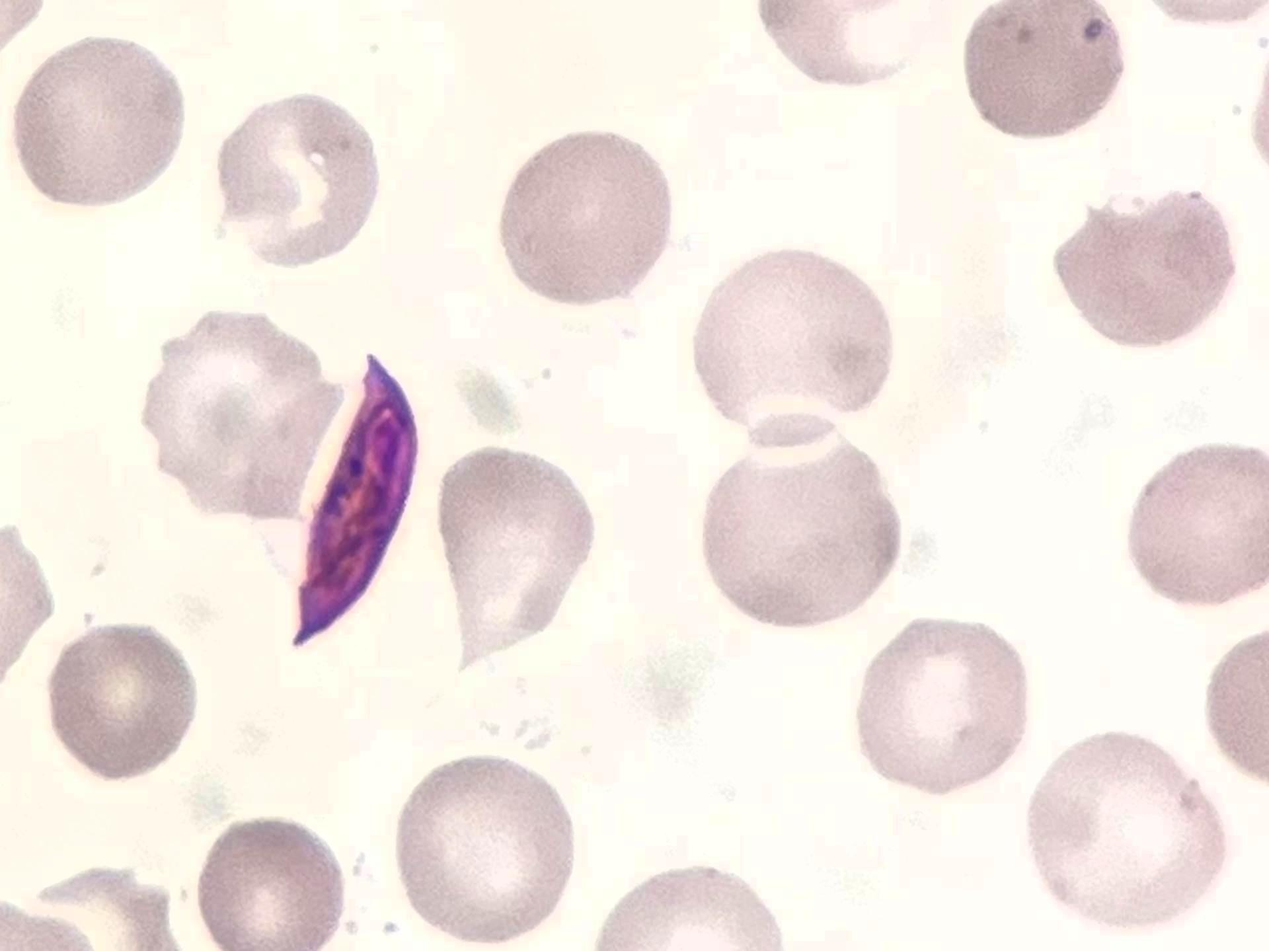Infected: (251, 346, 417, 647)
Uninfected: (140, 309, 343, 523), (699, 415, 900, 626), (692, 250, 892, 445), (1028, 732, 1221, 926), (435, 448, 593, 670), (393, 755, 574, 942), (13, 33, 186, 209), (1053, 187, 1239, 349), (858, 618, 1028, 795), (215, 91, 380, 269), (501, 131, 670, 304), (50, 620, 198, 781), (1127, 443, 1269, 606), (962, 0, 1124, 137), (195, 818, 346, 951)
